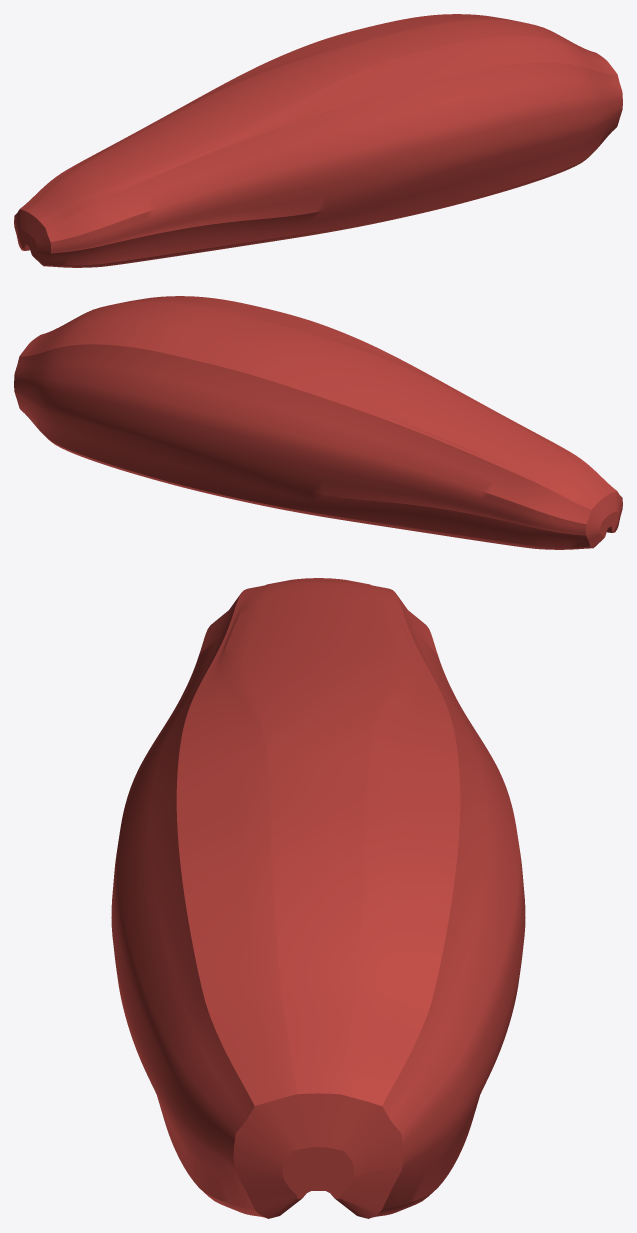
The model's file is cruiser_2_lod1.glb.
3 views of the same model, one above another, from view 1: azimuth 30°, elevation 25°; view 2: azimuth 150°, elevation 25°; view 3: azimuth 270°, elevation 25° (orthographic). The views are drawn at different scales.
Parts seen in each view (by area): view 1: cruiser_2_lod1; view 2: cruiser_2_lod1; view 3: cruiser_2_lod1.
Part boxes in pixels (x1,y1,x2,y2): cruiser_2_lod1: [14, 14, 622, 267]; cruiser_2_lod1: [14, 296, 622, 549]; cruiser_2_lod1: [111, 578, 525, 1218].
Size of the model in its own units: 1.06 by 0.2514 by 0.3296.
